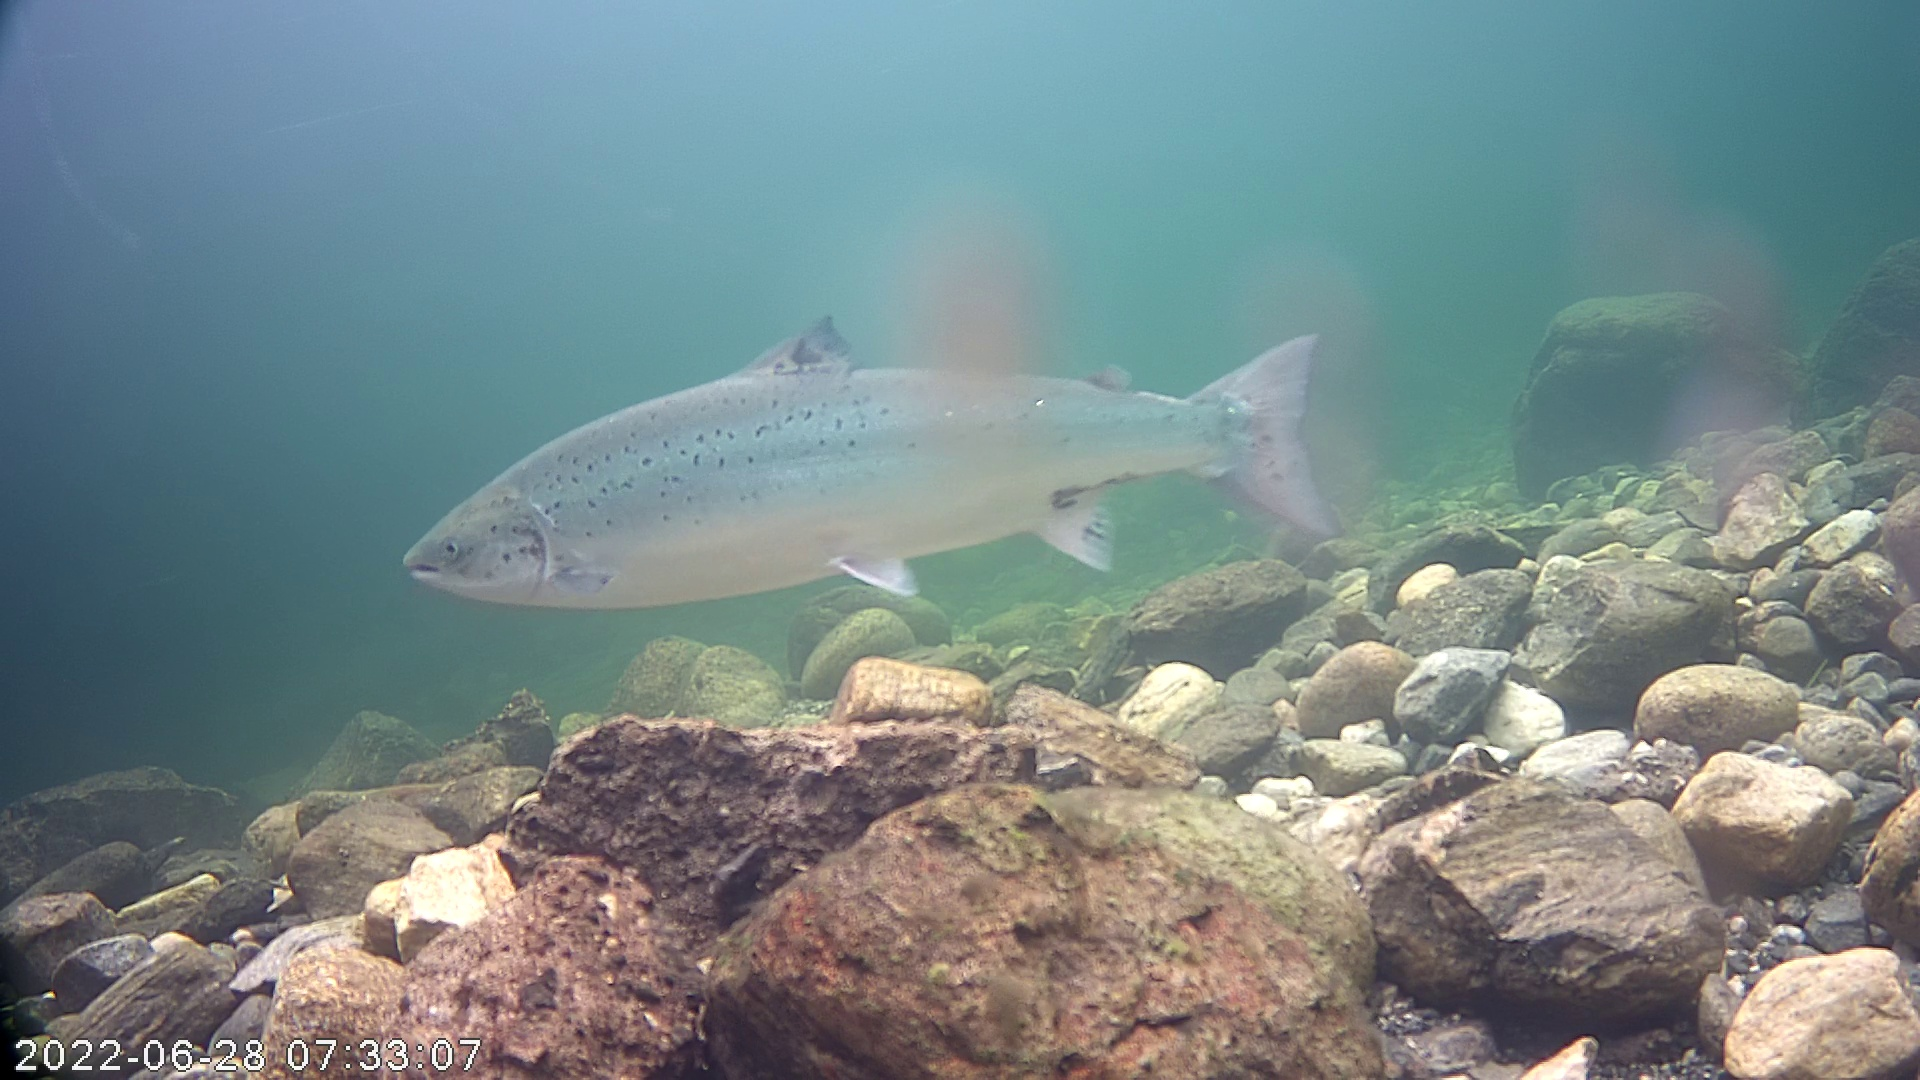salmon: (401, 237, 1367, 634)
